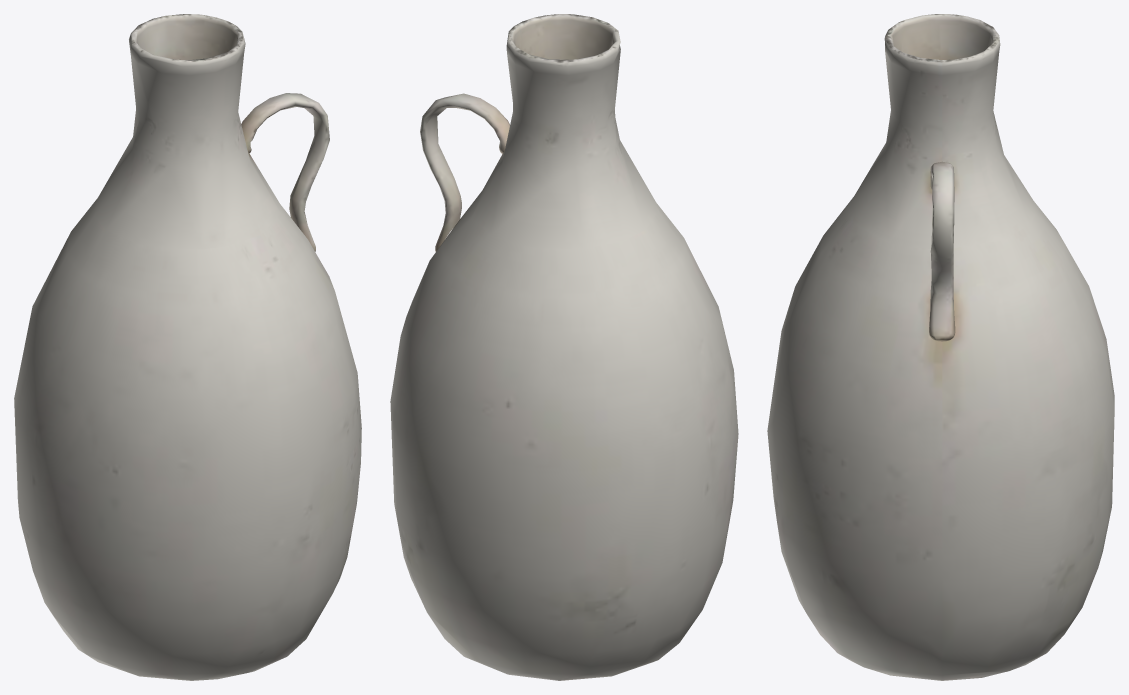
The model's file is ceramic_vase_04.glb.
The picture shows the model from 3 angles, left to right: view 1: azimuth 30°, elevation 25°; view 2: azimuth 150°, elevation 25°; view 3: azimuth 270°, elevation 25°; orthographic projection.
Visible parts, largest first — view 1: body; view 2: body; view 3: body.
Part boxes in pixels (box(x1,y1,x2,y2)): body: box(14, 14, 361, 680); body: box(390, 14, 738, 680); body: box(767, 14, 1114, 680).
Bounding box in the file's own units: 0.1793 × 0.3419 × 0.1799.
1 material, 1 textured.
